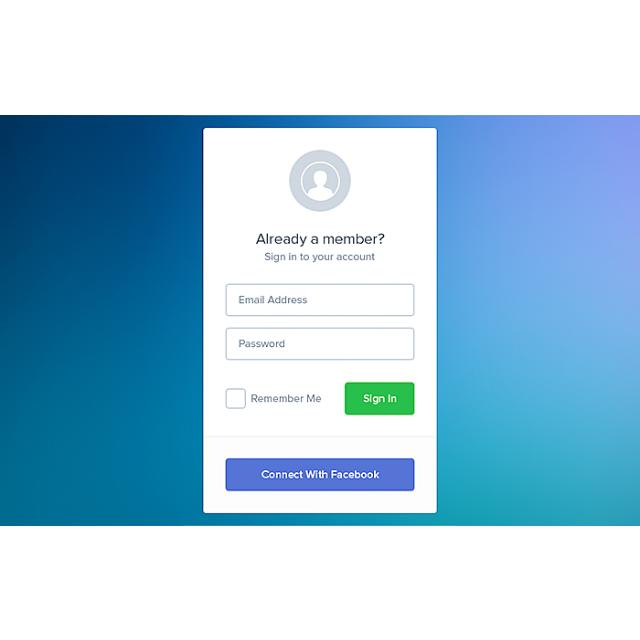QLabel: (255, 232, 385, 244), (264, 250, 376, 262), (260, 468, 380, 479), (251, 393, 321, 402), (364, 392, 396, 403)
VBtn: (224, 457, 416, 491), (344, 381, 416, 415)
VCard: (202, 125, 438, 517)
VCheckbox: (222, 387, 248, 411)
VDivider: (203, 434, 435, 438)
VImg: (287, 146, 353, 214)
VTextField: (225, 326, 415, 360), (226, 282, 414, 316)
